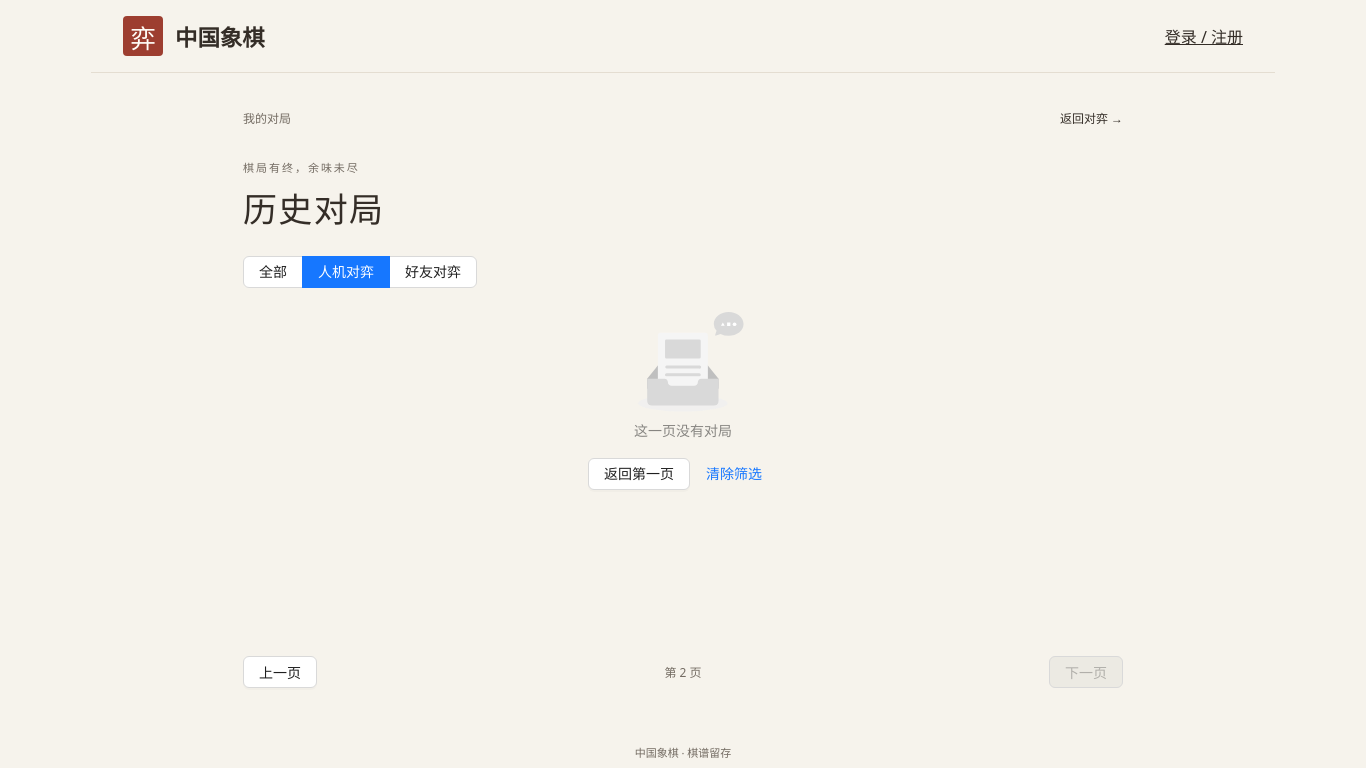
history navigation › offers a return to the first page for an empty cursor page
This screenshot has width=1366, height=768.
Check: the text "这一页没有对局" is shown, box top-left (634, 422), bottom-right (732, 439)
Click the button "返回第一页" at (639, 474), box top-left (588, 458), bottom-right (690, 490)
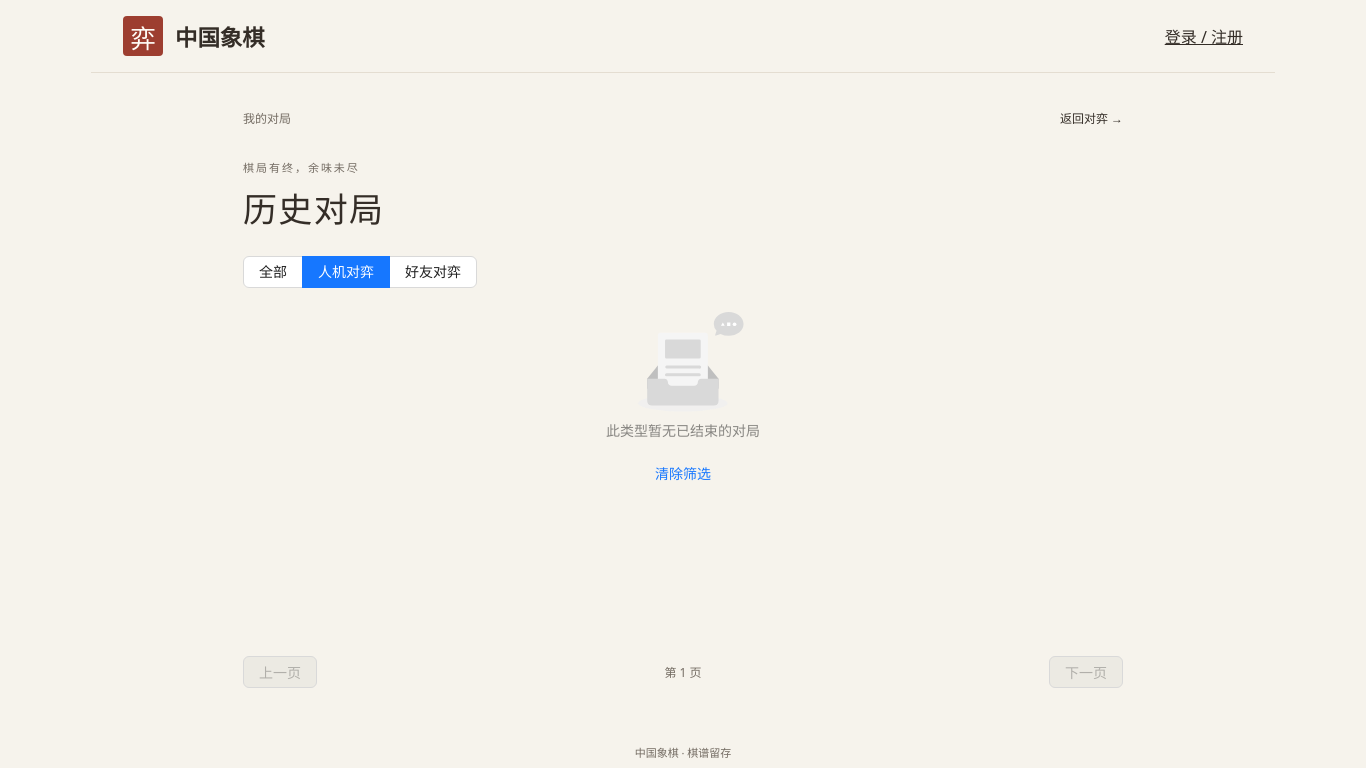
Check: the text "此类型暂无已结束的对局" is shown, box top-left (606, 422), bottom-right (760, 439)
Click the button "清除筛选" at (683, 474), box top-left (639, 458), bottom-right (727, 490)
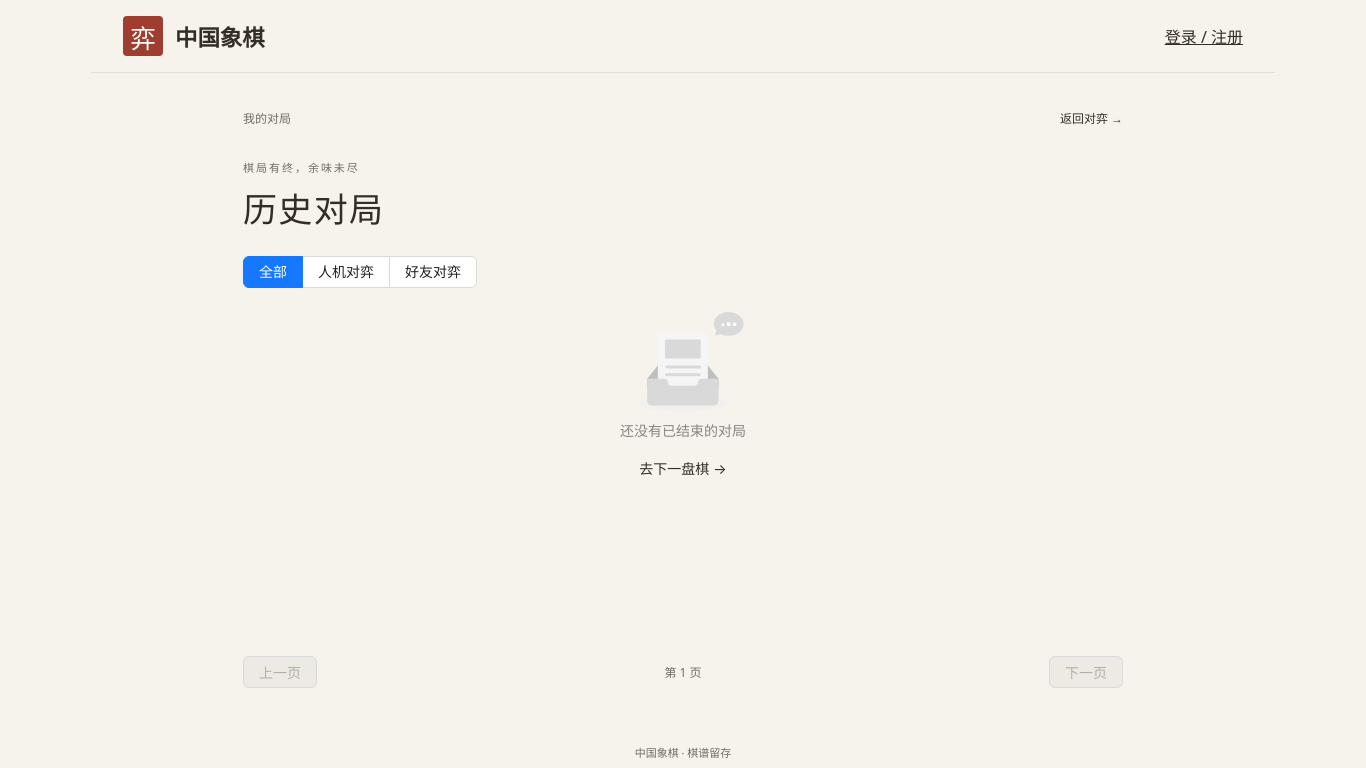
Check: the text "还没有已结束的对局" is shown, box top-left (620, 422), bottom-right (746, 439)
